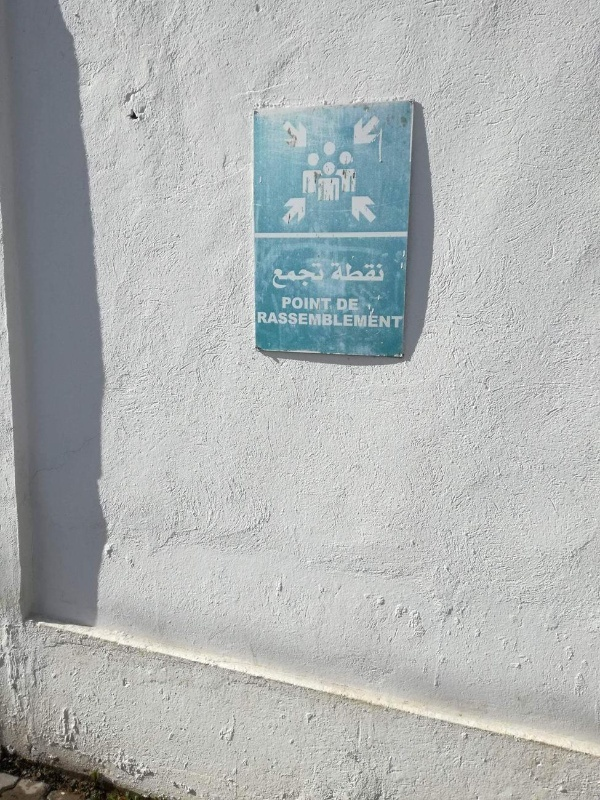text: (273, 263, 288, 290), (289, 263, 304, 290), (305, 263, 320, 290), (337, 263, 352, 284), (353, 263, 368, 284), (369, 263, 384, 284), (257, 311, 272, 330), (273, 311, 288, 330), (289, 311, 304, 330), (305, 311, 320, 330), (321, 311, 336, 330), (337, 311, 352, 330), (353, 311, 368, 330), (369, 311, 384, 330), (385, 311, 400, 330), (289, 297, 304, 311), (305, 297, 320, 311), (337, 298, 352, 311), (321, 297, 333, 311), (321, 263, 327, 290), (329, 263, 336, 284), (282, 297, 288, 311), (353, 298, 359, 311), (401, 311, 405, 330), (385, 263, 386, 284)
